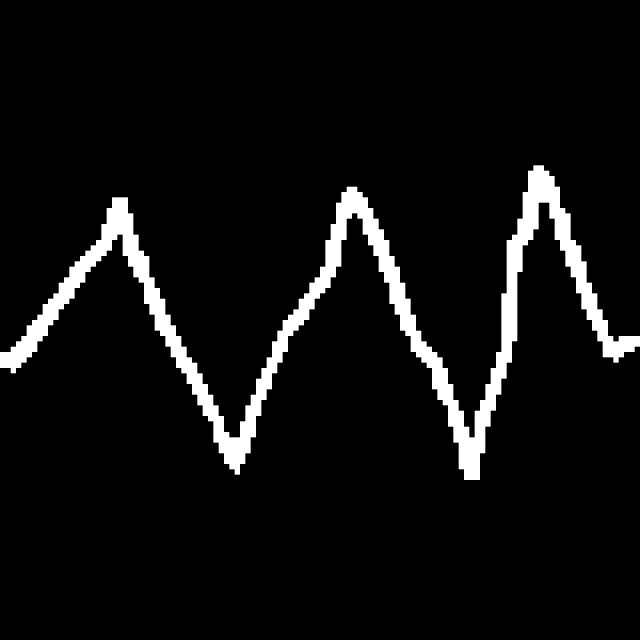resistor: (13, 154, 619, 496)
